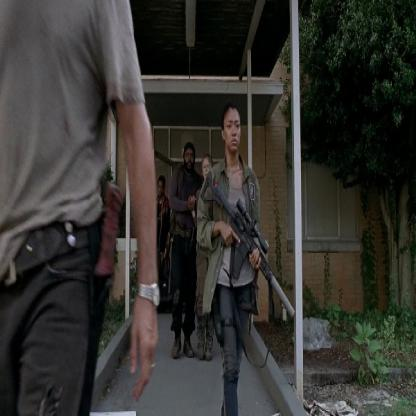Guns: (198, 168, 294, 320)
